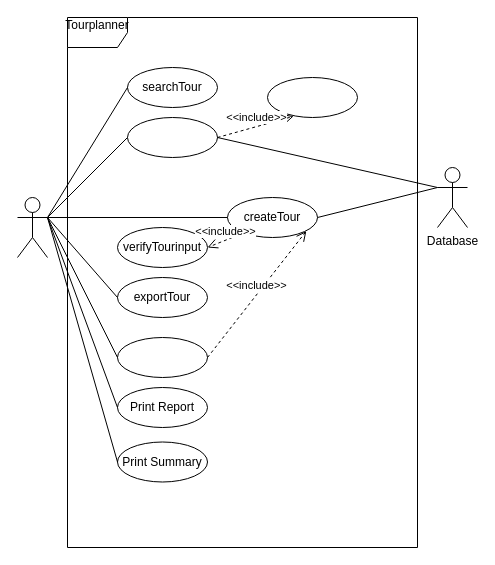
Image size: 495x565. Some labels were removed from this diagram. Each missing label, with the box of its shape:
createLog: (126, 116, 218, 158)
importTour: (116, 336, 208, 378)
User: (16, 196, 48, 258)
verifyLoginput: (266, 76, 358, 118)
